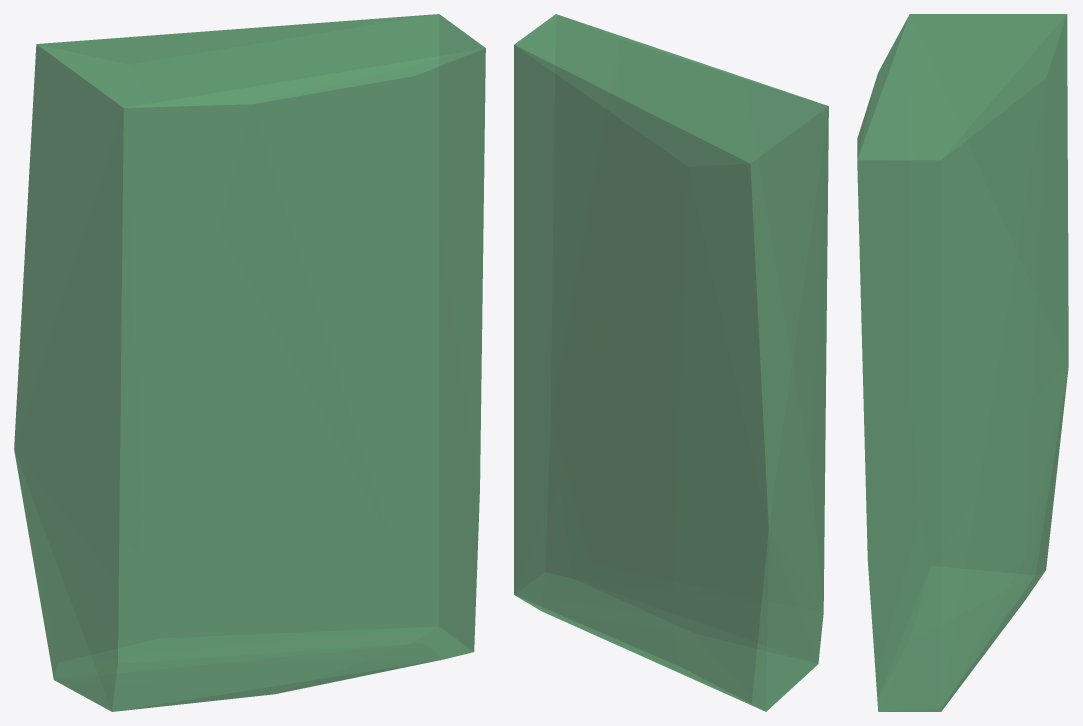
The picture shows the model from 3 angles, left to right: view 1: azimuth 30°, elevation 25°; view 2: azimuth 150°, elevation 25°; view 3: azimuth 270°, elevation 25°; orthographic projection. The views are drawn at different scales.
Visible parts, largest first — view 1: Shape_IndexedFaceSet.008_Shape_IndexedFaceSet.15990; view 2: Shape_IndexedFaceSet.008_Shape_IndexedFaceSet.15990; view 3: Shape_IndexedFaceSet.008_Shape_IndexedFaceSet.15990.
Part boxes in pixels (x1=…): Shape_IndexedFaceSet.008_Shape_IndexedFaceSet.15990: x1=14, y1=14, x2=485, y2=711; Shape_IndexedFaceSet.008_Shape_IndexedFaceSet.15990: x1=514, y1=14, x2=828, y2=711; Shape_IndexedFaceSet.008_Shape_IndexedFaceSet.15990: x1=857, y1=14, x2=1068, y2=711.
Bounding box in the file's own units: 0.1213 × 0.2039 × 0.0697.
